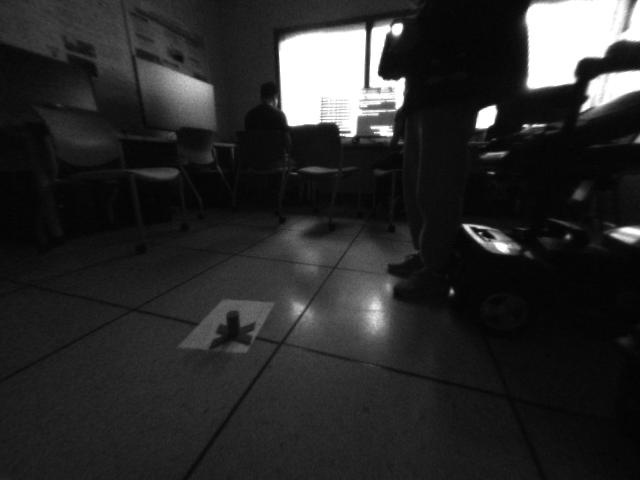x: (205, 309, 260, 353)
